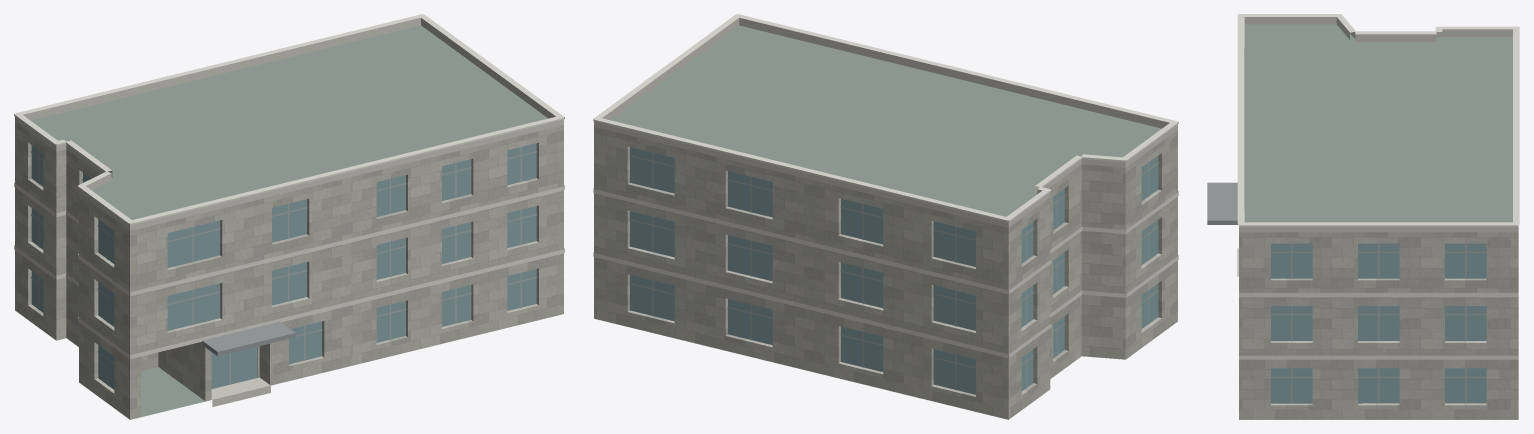
The picture shows the model from 3 angles, left to right: view 1: azimuth 30°, elevation 25°; view 2: azimuth 150°, elevation 25°; view 3: azimuth 270°, elevation 25°; orthographic projection. The views are drawn at different scales.
Parts seen in each view (by area): view 1: woncheon-info__wall, woncheon-info__roof, woncheon-info__glass, woncheon-info__trim, woncheon-info__parapet, woncheon-info__frame, woncheon-info__canopy, woncheon-info__entranceThreshold_0; view 2: woncheon-info__wall, woncheon-info__roof, woncheon-info__glass, woncheon-info__trim, woncheon-info__parapet, woncheon-info__frame; view 3: woncheon-info__roof, woncheon-info__wall, woncheon-info__glass, woncheon-info__trim, woncheon-info__parapet, woncheon-info__frame, woncheon-info__canopy.
Part boxes in pixels (left/top/right/bottom): woncheon-info__wall: left=15, top=122, right=563, bottom=419; woncheon-info__roof: left=16, top=25, right=563, bottom=419; woncheon-info__glass: left=31, top=143, right=536, bottom=389; woncheon-info__trim: left=14, top=14, right=564, bottom=358; woncheon-info__parapet: left=15, top=17, right=563, bottom=230; woncheon-info__frame: left=31, top=147, right=536, bottom=385; woncheon-info__canopy: left=201, top=321, right=295, bottom=356; woncheon-info__entranceThreshold_0: left=211, top=377, right=270, bottom=406; woncheon-info__wall: left=594, top=127, right=1177, bottom=419; woncheon-info__roof: left=594, top=25, right=1176, bottom=419; woncheon-info__glass: left=630, top=147, right=1158, bottom=394; woncheon-info__trim: left=593, top=14, right=1178, bottom=357; woncheon-info__parapet: left=594, top=17, right=1177, bottom=227; woncheon-info__frame: left=629, top=152, right=1158, bottom=390; woncheon-info__roof: left=1239, top=24, right=1518, bottom=419; woncheon-info__wall: left=1239, top=232, right=1518, bottom=419; woncheon-info__glass: left=1271, top=243, right=1486, bottom=403; woncheon-info__trim: left=1237, top=14, right=1519, bottom=359; woncheon-info__parapet: left=1239, top=17, right=1518, bottom=232; woncheon-info__frame: left=1271, top=243, right=1486, bottom=403; woncheon-info__canopy: left=1207, top=182, right=1238, bottom=224.
Bounding box in the file's own units: 26.84 × 11.95 × 16.78.
Materials: 9 (1 with a texture image).
